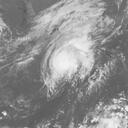cyclone: (40, 40, 95, 93)
